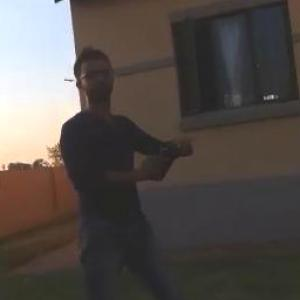follow: (44, 43, 204, 299)
